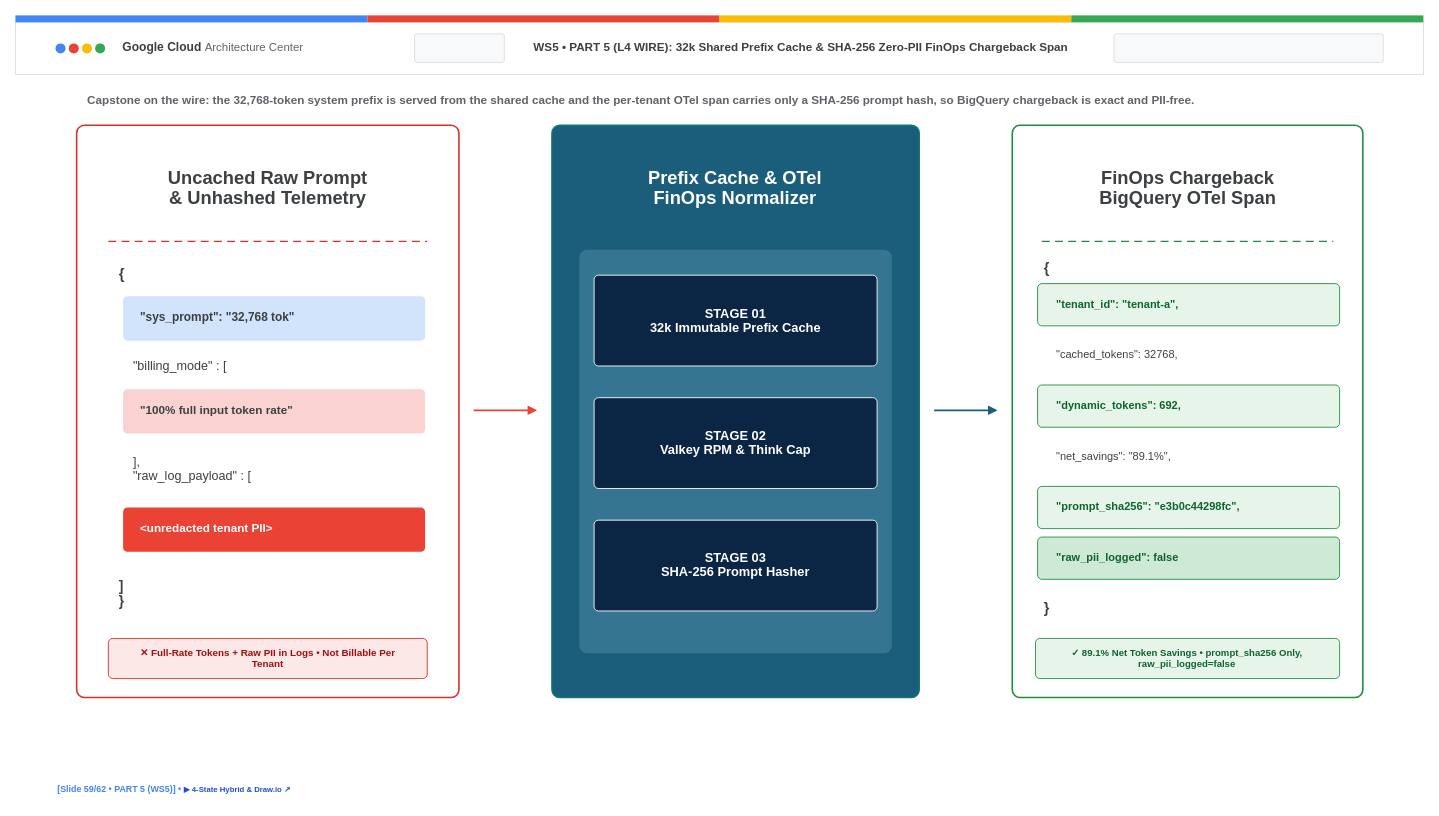
This 1439x816 diagram has some shape labels left out. Each missing label, with the centre of its shape:
PAYLOAD-TRANSFORMATION: (x=1248, y=47)
WS5: (x=459, y=47)
